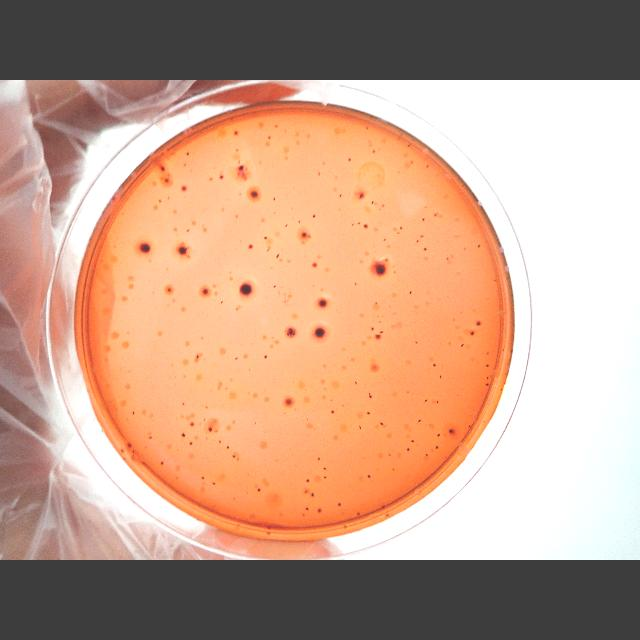colony: (372, 260, 390, 280), (239, 280, 253, 296), (313, 326, 327, 340), (284, 326, 298, 340), (248, 187, 262, 201), (297, 228, 311, 242), (139, 240, 151, 254), (176, 246, 188, 256), (284, 397, 294, 408), (318, 298, 328, 308), (180, 185, 188, 193), (374, 334, 382, 341), (201, 288, 209, 294), (166, 286, 172, 294), (239, 164, 245, 172), (159, 165, 165, 173), (164, 176, 170, 184), (358, 192, 364, 200), (248, 243, 254, 250), (448, 428, 454, 434), (303, 488, 309, 494), (476, 321, 482, 327), (266, 134, 272, 140), (233, 130, 239, 136), (312, 262, 318, 268), (126, 442, 132, 448), (234, 356, 240, 362), (208, 426, 212, 434), (331, 409, 335, 415), (367, 410, 371, 416), (437, 432, 441, 438), (410, 438, 414, 444), (406, 446, 410, 452), (311, 492, 315, 498), (318, 507, 322, 513), (337, 501, 341, 507), (232, 454, 236, 460), (425, 452, 429, 458), (470, 331, 474, 337), (423, 246, 427, 252), (220, 174, 224, 180), (158, 198, 162, 204), (364, 223, 368, 229), (432, 213, 438, 217), (372, 148, 376, 154), (276, 253, 280, 259), (409, 290, 413, 296), (356, 511, 362, 515), (386, 512, 390, 518), (392, 466, 396, 472), (510, 348, 514, 354), (182, 432, 186, 438), (189, 440, 193, 446), (148, 436, 154, 440), (190, 421, 194, 427), (131, 410, 135, 416), (196, 353, 200, 359), (272, 196, 276, 202), (358, 425, 362, 431), (227, 444, 230, 450), (264, 355, 268, 359), (380, 422, 384, 426), (367, 474, 371, 478), (306, 478, 310, 482), (257, 488, 261, 492), (201, 476, 205, 480), (212, 482, 216, 486), (485, 383, 489, 387), (485, 364, 489, 368), (460, 343, 464, 347), (420, 234, 424, 238), (399, 226, 403, 230), (422, 218, 426, 222), (264, 236, 268, 240), (284, 224, 288, 228), (308, 235, 312, 239), (312, 214, 316, 218), (339, 194, 343, 198), (371, 200, 375, 204), (347, 158, 351, 162), (274, 124, 278, 128), (186, 152, 190, 156), (266, 248, 270, 252), (370, 327, 374, 331), (414, 340, 418, 344), (432, 363, 436, 367), (424, 398, 428, 402), (382, 505, 386, 509), (387, 453, 391, 457), (502, 348, 506, 352), (218, 440, 222, 444), (160, 461, 164, 465), (121, 449, 125, 453), (181, 402, 185, 406), (273, 284, 277, 288), (486, 376, 489, 380), (446, 256, 449, 260), (416, 238, 418, 244), (426, 164, 429, 168), (408, 142, 410, 148), (187, 229, 190, 233), (380, 331, 384, 334), (132, 448, 134, 454), (220, 300, 223, 304), (418, 419, 420, 423), (436, 445, 438, 449), (318, 456, 320, 460), (324, 466, 326, 470), (324, 475, 326, 479), (306, 507, 308, 511), (468, 424, 470, 428), (478, 244, 480, 248), (298, 220, 300, 224), (352, 223, 354, 227), (384, 238, 386, 242), (366, 126, 368, 130), (184, 163, 186, 167), (386, 258, 388, 262), (440, 375, 442, 379), (437, 400, 439, 404), (501, 387, 503, 391), (204, 418, 206, 422), (355, 381, 357, 385), (368, 392, 370, 396), (369, 396, 373, 398), (358, 222, 360, 224)
